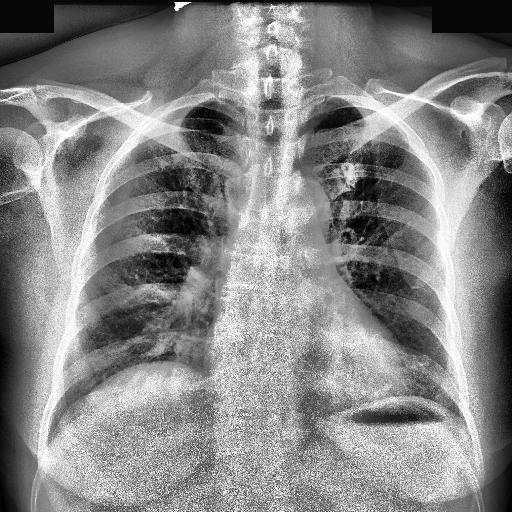0- Aortic enlargement: (270, 174, 336, 250), (278, 177, 332, 232), (284, 176, 332, 232)
3- Cardiomegaly: (198, 335, 414, 399)
